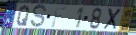1: (74, 6, 86, 30)
8: (89, 7, 104, 31)
F: (50, 6, 67, 28)
Q: (15, 5, 31, 28)
S: (30, 4, 48, 30)
X: (102, 7, 123, 32)
